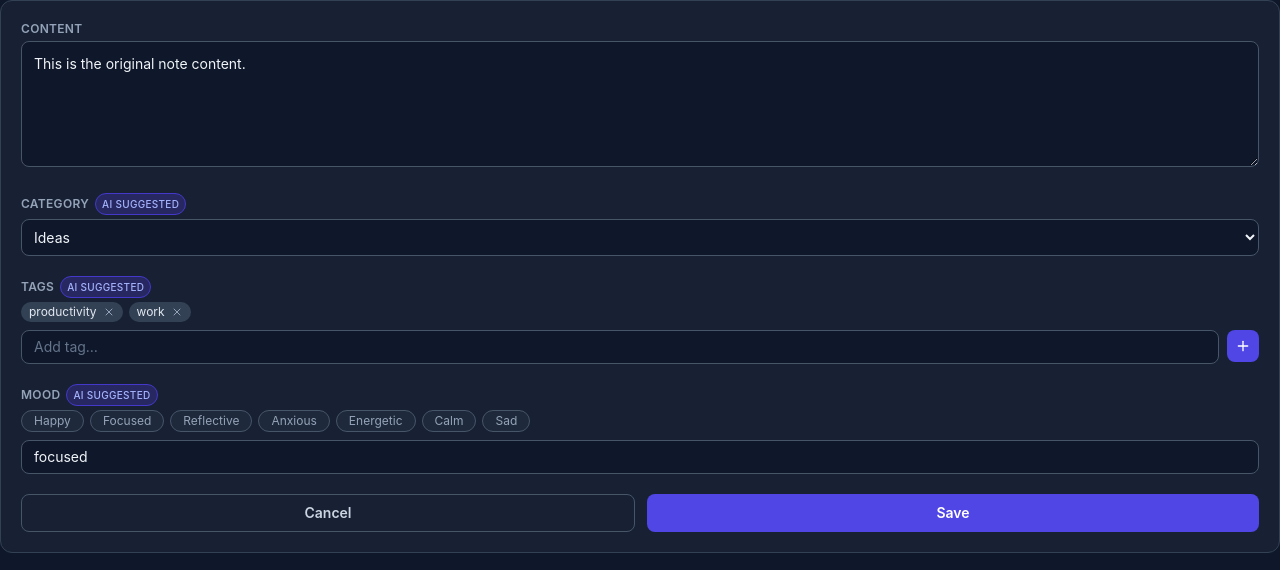
Test: NoteEditor (Task 2.3 — B8 manual override) › pressing Enter in tag input adds a new tag
The image size is (1280, 570).
Type "newtag" into the field with placeholder "Add tag…" at (620, 347), box [21,330,1219,364]
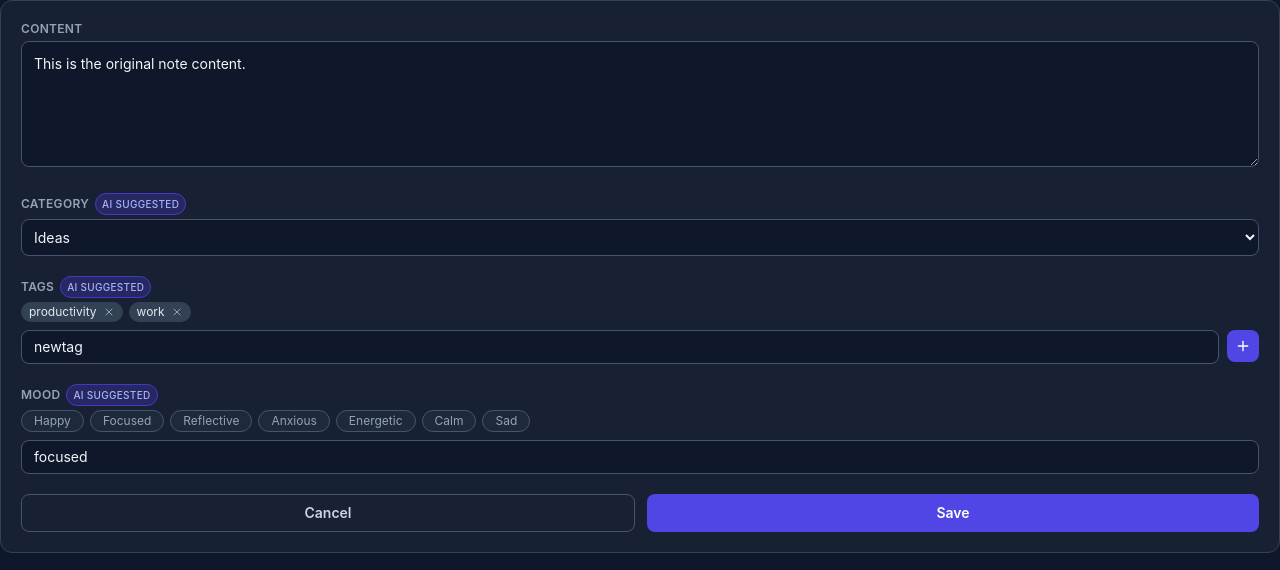
Press Enter in the field with placeholder "Add tag…", box [21,330,1219,364]
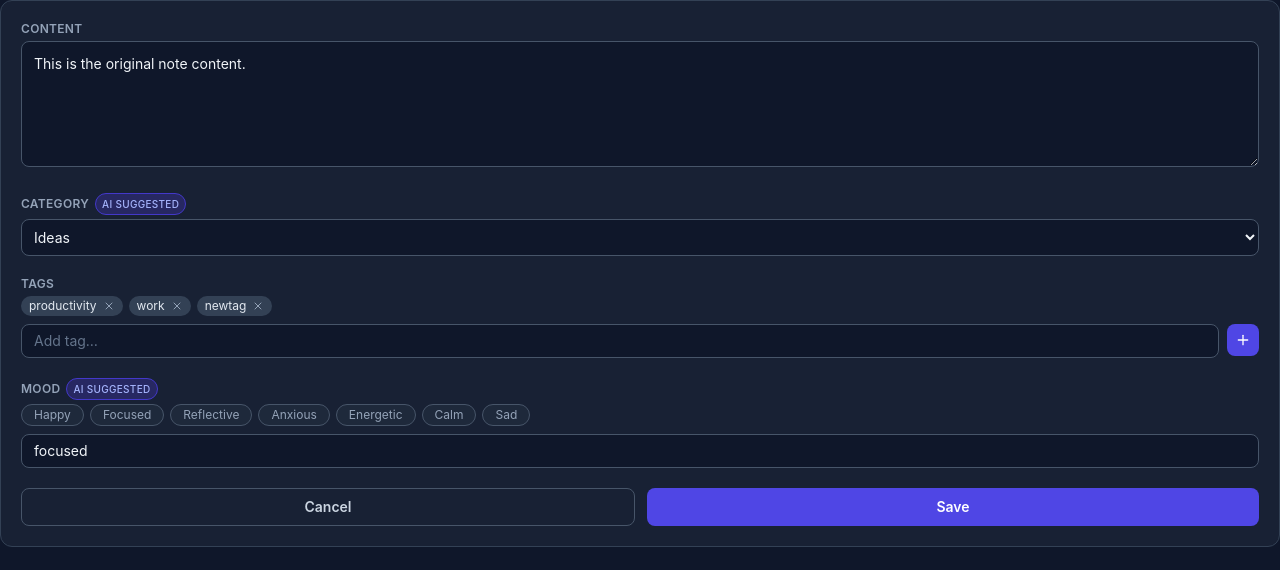
Result: the text "newtag" is shown at [197,296,272,316]
